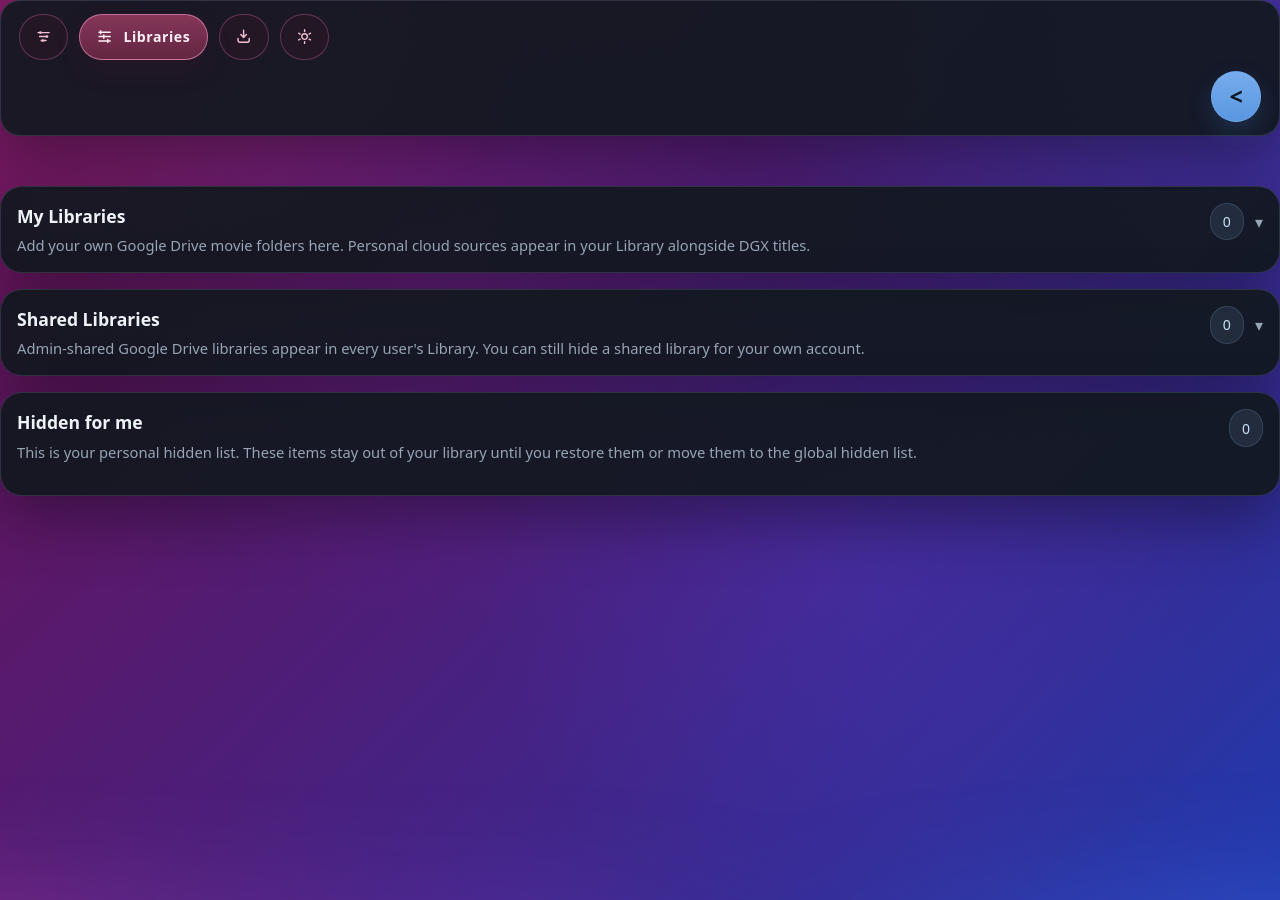
Test: SettingsPage section navigation and consolidation › StrictMode delayed Libraries data commits on the second setup
This screenshot has width=1280, height=900.
Click the text "Hidden for me": (80, 422) [17, 410, 143, 434]
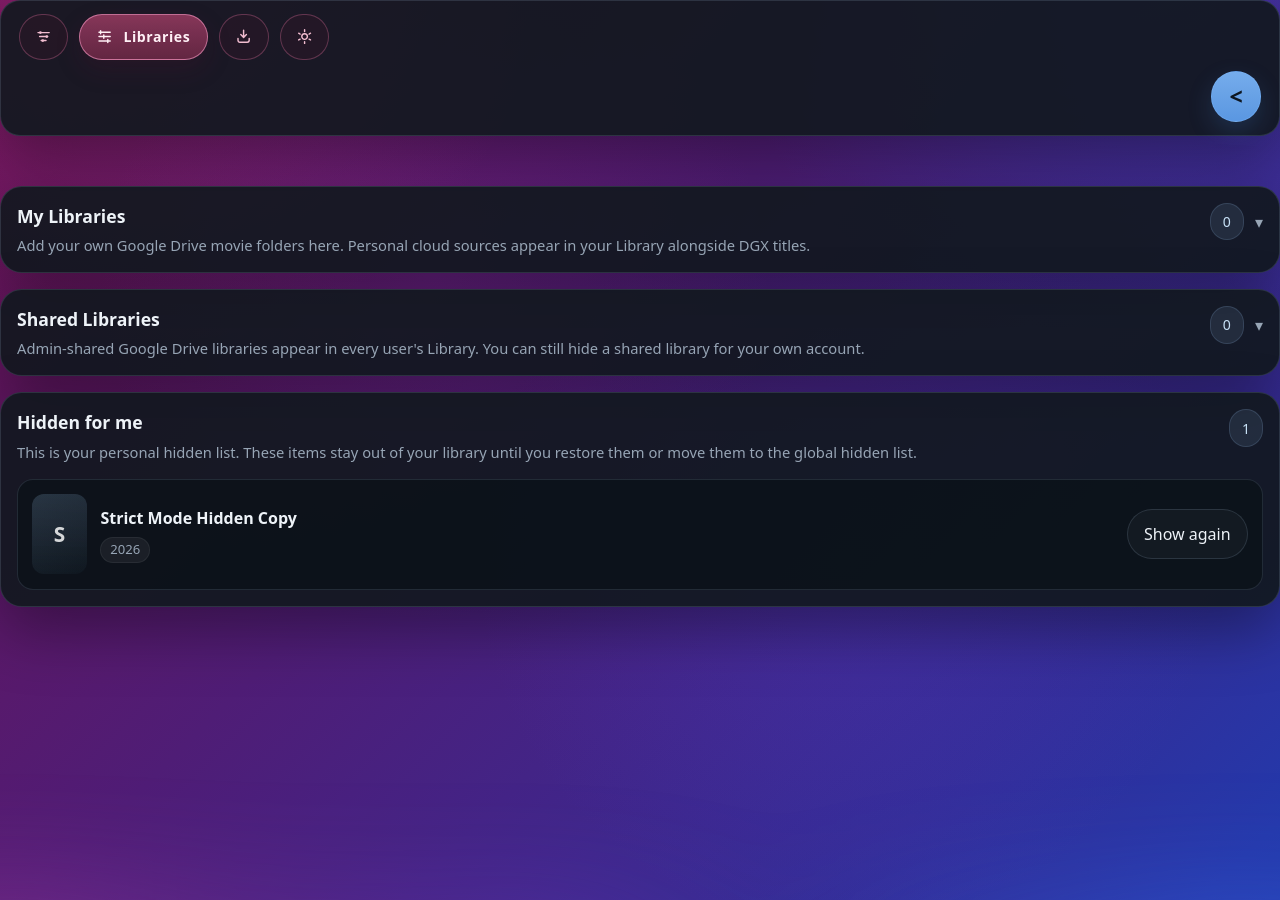
Now the text "Strict Mode Hidden Copy" is shown, box [100, 507, 297, 529]
